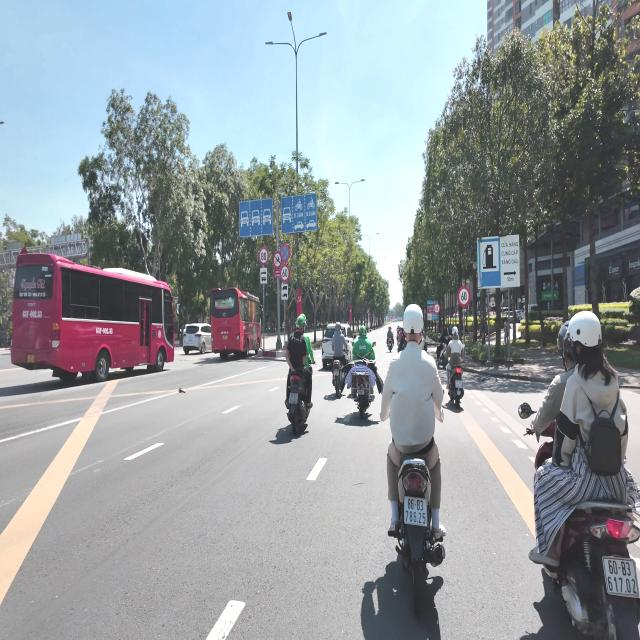car: (183, 324, 211, 354), (322, 323, 335, 368)
motorcycle: (545, 502, 639, 639), (396, 459, 445, 615), (288, 373, 310, 435), (351, 360, 374, 418), (448, 366, 463, 408), (333, 360, 341, 397), (387, 336, 393, 352)
